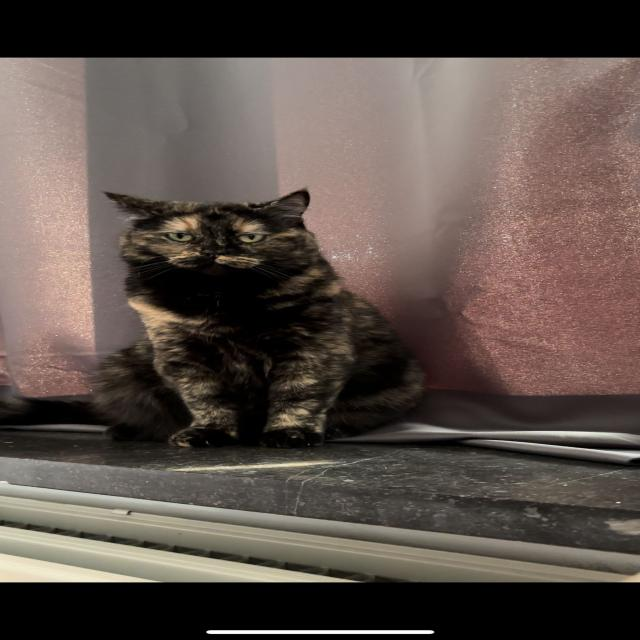authorized: (85, 186, 428, 449)
